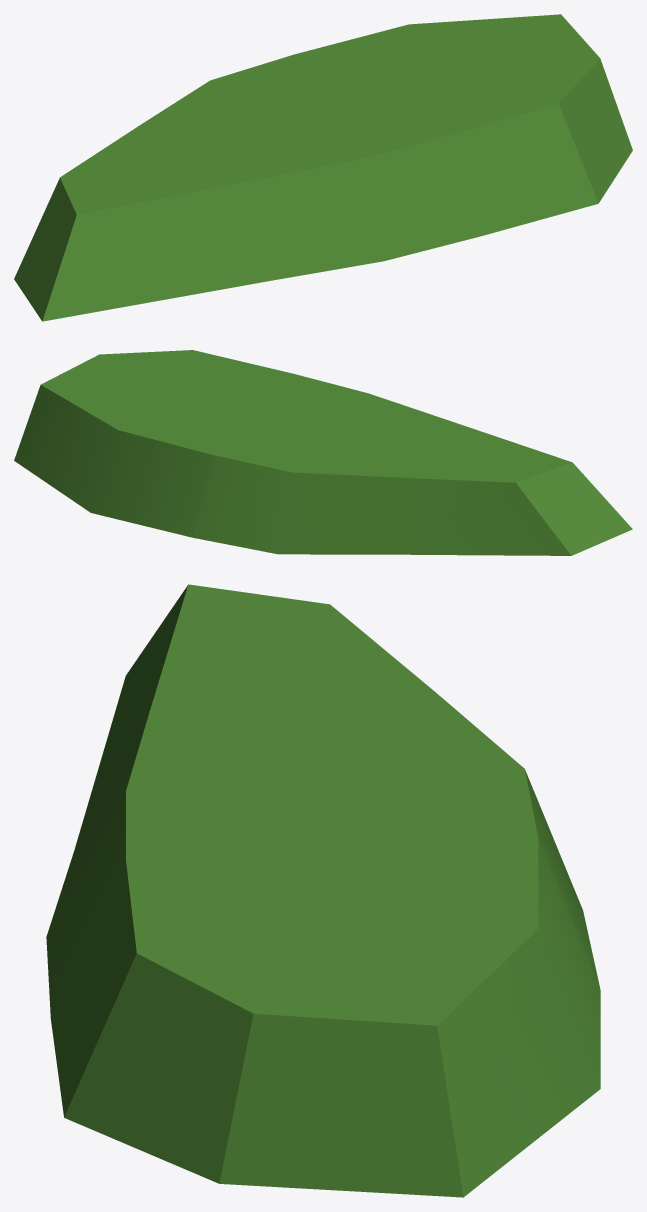
File: grass_layer_crumb_medium_B.fbx
The picture shows the model from 3 angles, top to bottom: view 1: azimuth 30°, elevation 25°; view 2: azimuth 150°, elevation 25°; view 3: azimuth 270°, elevation 25°; orthographic projection. The views are drawn at different scales.
Visible parts, largest first — view 1: grass_layer_crumb_medium_B; view 2: grass_layer_crumb_medium_B; view 3: grass_layer_crumb_medium_B.
Boxes of the visible parts, x1=… form: grass_layer_crumb_medium_B: x1=14, y1=14, x2=632, y2=321; grass_layer_crumb_medium_B: x1=14, y1=350, x2=632, y2=555; grass_layer_crumb_medium_B: x1=46, y1=584, x2=600, y2=1197.
Bounding box in the file's own units: 127 × 17.23 × 56.85.
